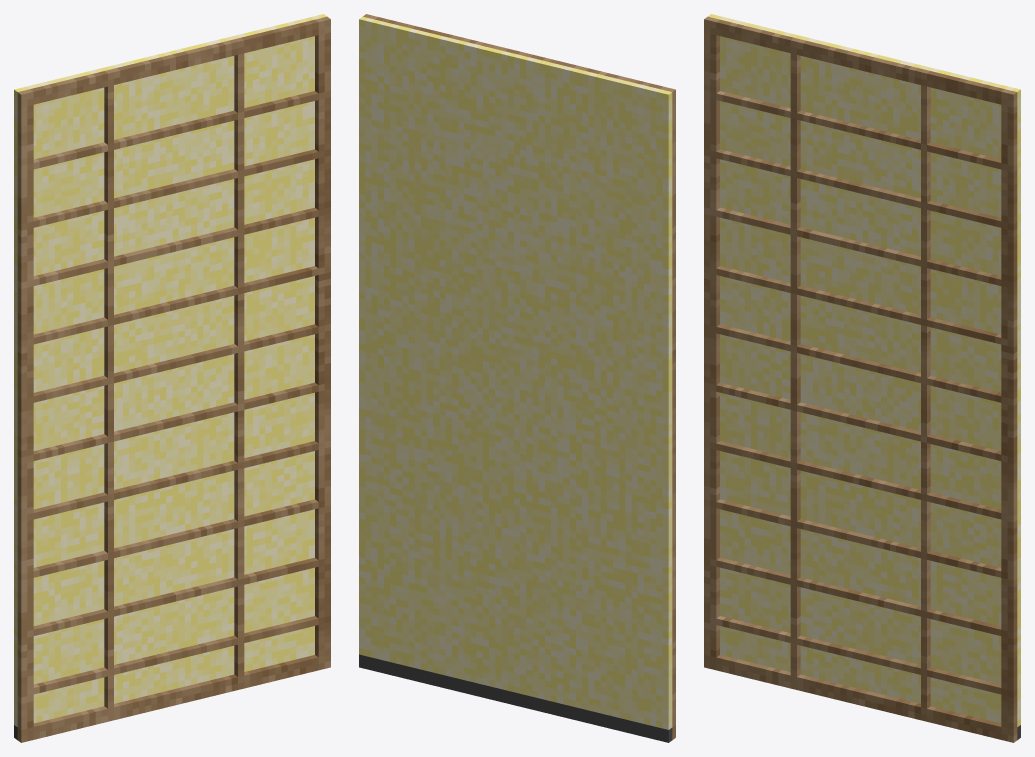
The model's file is wallMain-3.obj.
3 renders of one model, left to right at view 1: azimuth 30°, elevation 25°; view 2: azimuth 150°, elevation 25°; view 3: azimuth 330°, elevation 25°, orthographic.
Bounding box in the file's own units: 5 × 10 × 0.2.
